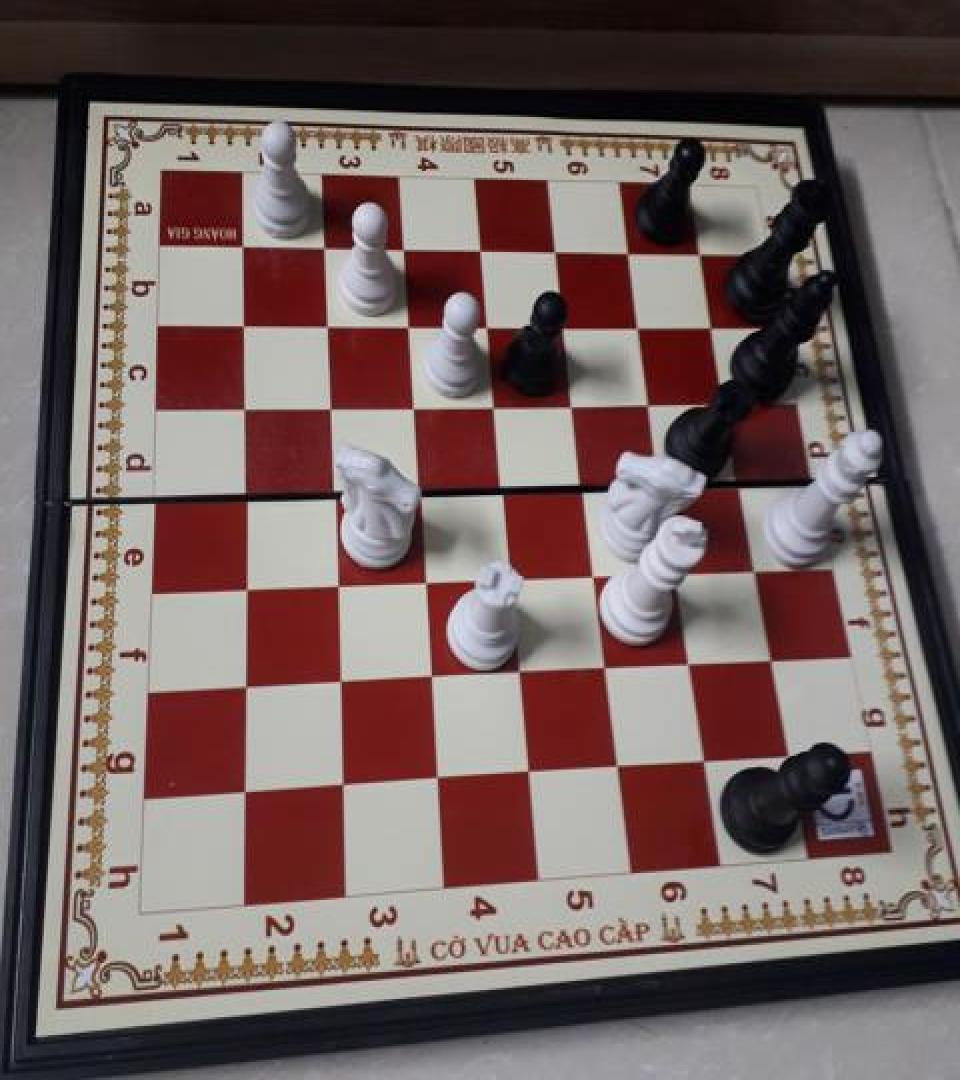xcorner: (499, 653, 531, 690), (684, 741, 716, 778), (682, 233, 714, 269), (610, 232, 642, 268), (536, 232, 568, 268), (460, 230, 492, 266), (383, 230, 415, 266), (304, 230, 336, 266), (223, 230, 255, 266), (695, 305, 727, 341), (620, 305, 652, 341), (545, 306, 577, 342), (467, 306, 499, 342), (388, 306, 420, 342), (307, 307, 339, 343), (224, 307, 256, 343), (708, 382, 740, 418), (632, 382, 664, 418), (474, 386, 506, 422), (393, 387, 425, 423), (309, 388, 341, 424), (224, 389, 256, 425), (722, 462, 754, 498), (644, 464, 676, 500), (564, 467, 596, 503), (482, 469, 514, 505), (398, 472, 430, 508), (312, 474, 344, 510), (224, 477, 256, 513), (737, 549, 769, 585), (657, 551, 689, 587), (574, 554, 606, 590), (490, 559, 522, 595), (404, 562, 436, 598), (315, 566, 347, 602), (225, 569, 257, 605), (752, 639, 784, 675), (670, 644, 702, 680), (586, 649, 618, 685), (410, 658, 442, 694), (319, 664, 351, 700), (225, 668, 257, 704), (769, 736, 801, 772), (597, 748, 629, 784), (508, 754, 540, 790), (416, 760, 448, 796), (322, 767, 354, 803), (225, 774, 257, 810), (554, 384, 586, 419)
